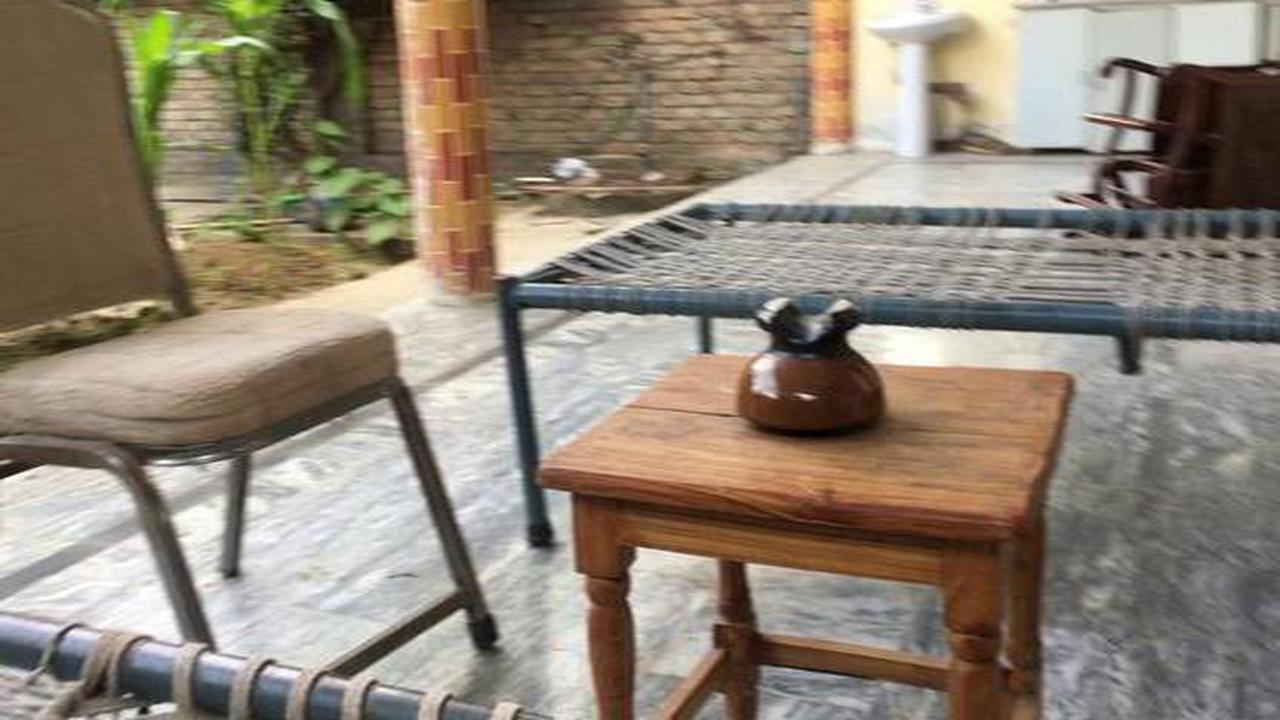insulator_pin: (717, 279, 899, 449)
